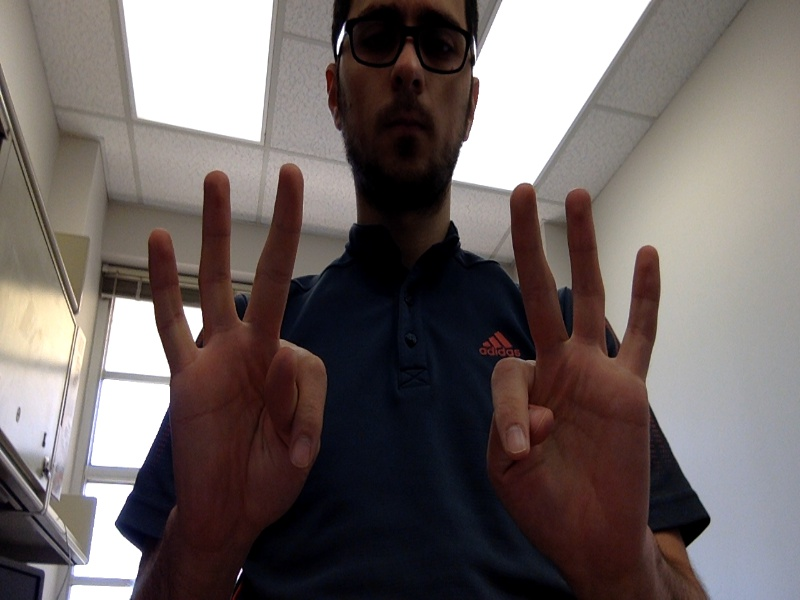3-hand: (148, 163, 327, 550), (489, 185, 662, 567)
